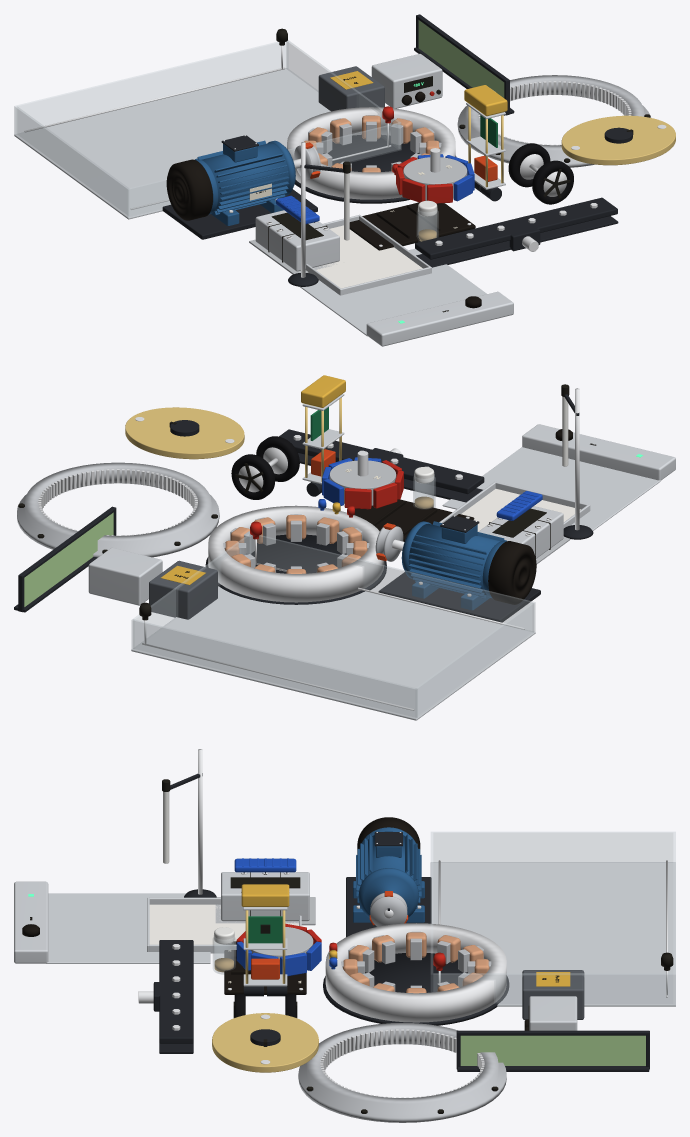
Rendered from sims-parts.glb.
3 views of the same model, one above another, from view 1: azimuth 30°, elevation 25°; view 2: azimuth 150°, elevation 25°; view 3: azimuth 270°, elevation 25° (orthographic). The views are drawn at different scales.
Parts seen in each view (by area): view 1: GelTank, Stirrer, PmsmStator, Motor3, Clevis, FlyTray, WaveGen, HarmonicRing, Breaker3, PmsmRotor, ScintScreen, BotBody (+7 smaller); view 2: GelTank, PmsmStator, Stirrer, Motor3, HarmonicRing, WaveGen, ScintScreen, PmsmRotor, Clevis, BotBody, AlphaSource, GelPSU (+7 smaller); view 3: GelTank, PmsmStator, Stirrer, HarmonicRing, ScintScreen, Motor3, WaveGen, BotBody, Clevis, FlyTray, Breaker3, PmsmRotor (+7 smaller).
Boxes of the visible parts, x1,y1,x2,y2 form: GelTank: [14, 28, 401, 219]; Stirrer: [288, 142, 513, 346]; PmsmStator: [287, 107, 456, 203]; Motor3: [162, 135, 317, 239]; Clevis: [415, 197, 618, 267]; FlyTray: [305, 214, 431, 295]; WaveGen: [561, 115, 675, 165]; HarmonicRing: [457, 75, 651, 167]; Breaker3: [249, 210, 339, 274]; PmsmRotor: [396, 148, 474, 203]; ScintScreen: [414, 14, 514, 115]; BotBody: [464, 85, 507, 201]; GelTank: [131, 521, 535, 720]; PmsmStator: [205, 499, 386, 604]; Stirrer: [442, 384, 675, 539]; Motor3: [378, 515, 540, 622]; HarmonicRing: [17, 462, 219, 557]; WaveGen: [125, 407, 244, 459]; ScintScreen: [14, 506, 116, 612]; PmsmRotor: [322, 451, 403, 509]; Clevis: [279, 429, 484, 502]; BotBody: [301, 375, 345, 496]; AlphaSource: [149, 560, 217, 619]; GelPSU: [88, 547, 162, 605]; GelTank: [430, 832, 675, 1006]; PmsmStator: [323, 923, 509, 1025]; Stirrer: [14, 749, 216, 963]; HarmonicRing: [298, 1023, 506, 1122]; ScintScreen: [456, 1030, 649, 1071]; Motor3: [346, 817, 431, 936]; WaveGen: [212, 1013, 318, 1072]; BotBody: [241, 884, 289, 996]; Clevis: [138, 940, 193, 1053]; FlyTray: [147, 897, 301, 953]; Breaker3: [215, 872, 315, 925]; PmsmRotor: [236, 923, 321, 976].
Size of the model in its own units: 8.99 by 2.4 by 9.66.
